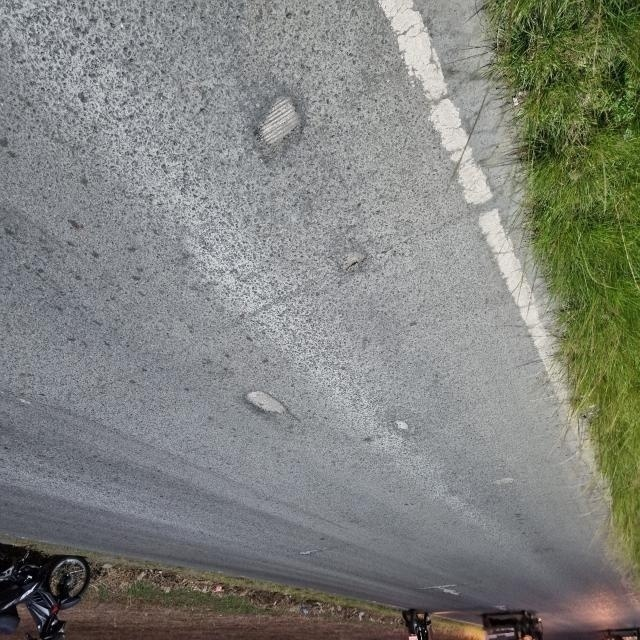pothole: (247, 78, 327, 175), (230, 378, 308, 442), (332, 244, 377, 284)
